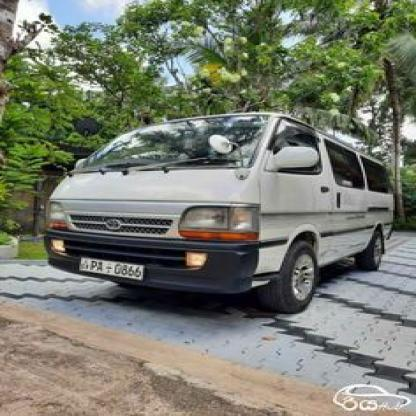number plate: (78, 255, 146, 280)
van front: (36, 112, 402, 320)
